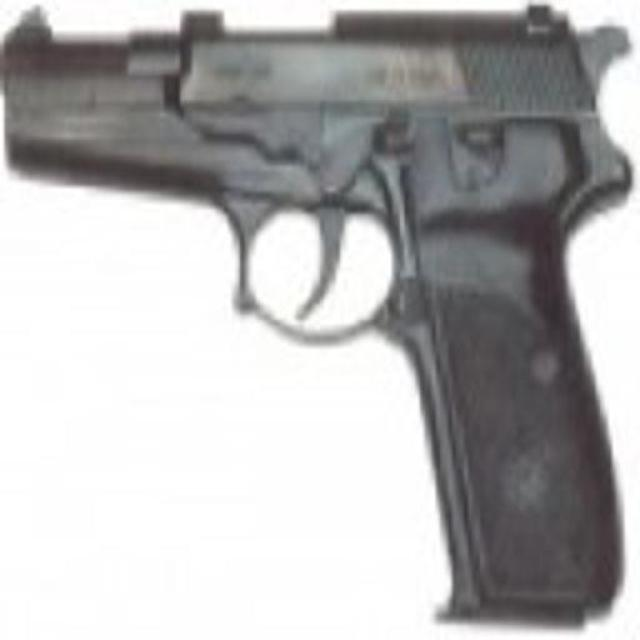pistol: (4, 5, 628, 634)
